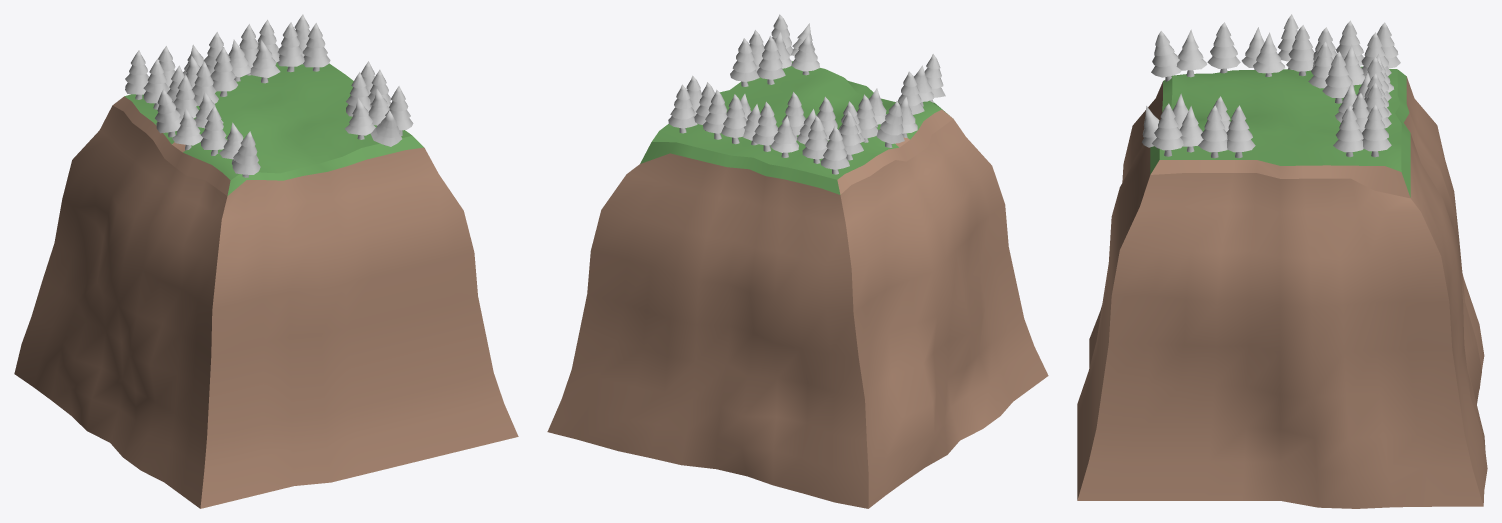
File: FinalStage.fbx
3 renders of one model, left to right at view 1: azimuth 30°, elevation 25°; view 2: azimuth 150°, elevation 25°; view 3: azimuth 270°, elevation 25°, orthographic. The views are drawn at different scales.
Parts seen in each view (by area): view 1: FinalStage, Tree_8, Tree_14, Tree_23, Tree_29, Tree_21, Tree_12, Tree_6, Tree_19, Tree_4, Tree_27, Tree_15 (+5 smaller); view 2: FinalStage, Tree_28, Tree_9, Tree_6, Tree_23, Tree_30, Tree_2, Tree_5, Tree_3, Tree_7, Tree_19, Tree_11 (+4 smaller); view 3: FinalStage, Tree_13, Tree_21, Tree_9, Tree_20, Tree_29, Tree_28, Tree_14, Tree_12, Tree_25, Tree_16, Tree_26 (+8 smaller).
Part boxes in pixels (<box>): FinalStage: <box>14,62,518,508</box>; Tree_8: <box>277,22,304,72</box>; Tree_14: <box>232,131,260,177</box>; Tree_23: <box>155,89,182,137</box>; Tree_29: <box>302,23,330,71</box>; Tree_21: <box>200,105,227,155</box>; Tree_12: <box>210,47,237,96</box>; Tree_6: <box>125,50,148,99</box>; Tree_19: <box>143,58,169,109</box>; Tree_4: <box>250,40,280,83</box>; Tree_27: <box>370,110,402,146</box>; Tree_15: <box>172,108,202,150</box>; FinalStage: <box>547,61,1048,508</box>; Tree_28: <box>730,38,759,86</box>; Tree_9: <box>668,84,697,133</box>; Tree_6: <box>821,125,849,174</box>; Tree_23: <box>876,101,904,147</box>; Tree_30: <box>757,36,785,84</box>; Tree_2: <box>721,94,746,144</box>; Tree_5: <box>752,101,778,151</box>; Tree_3: <box>802,115,828,163</box>; Tree_7: <box>703,89,727,139</box>; Tree_19: <box>840,111,863,160</box>; Tree_11: <box>770,116,798,157</box>; FinalStage: <box>1077,66,1487,508</box>; Tree_13: <box>1152,103,1183,156</box>; Tree_21: <box>1207,22,1240,73</box>; Tree_9: <box>1362,104,1391,157</box>; Tree_20: <box>1198,105,1227,158</box>; Tree_29: <box>1333,105,1363,157</box>; Tree_28: <box>1226,105,1255,158</box>; Tree_14: <box>1151,31,1181,81</box>; Tree_12: <box>1322,51,1352,103</box>; Tree_25: <box>1286,25,1314,76</box>; Tree_16: <box>1176,29,1207,77</box>; Tree_26: <box>1253,32,1285,76</box>.
Bounding box in the file's own units: 1038 × 1010 × 1039.
